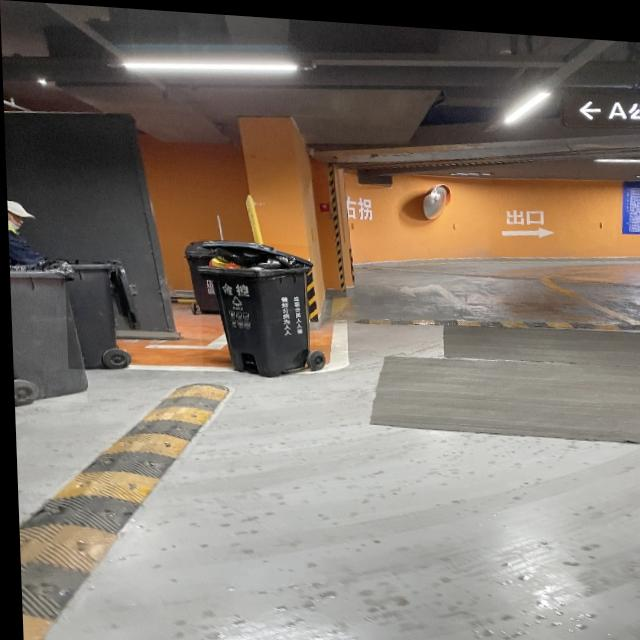garbage_bin: (7, 258, 85, 402), (62, 258, 117, 371), (182, 238, 218, 312)
overflow: (197, 236, 314, 377)
